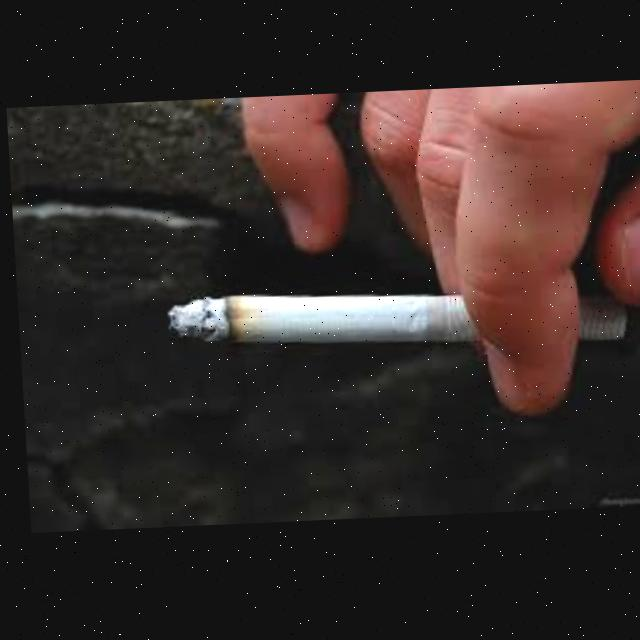cigarette: (162, 282, 626, 362)
